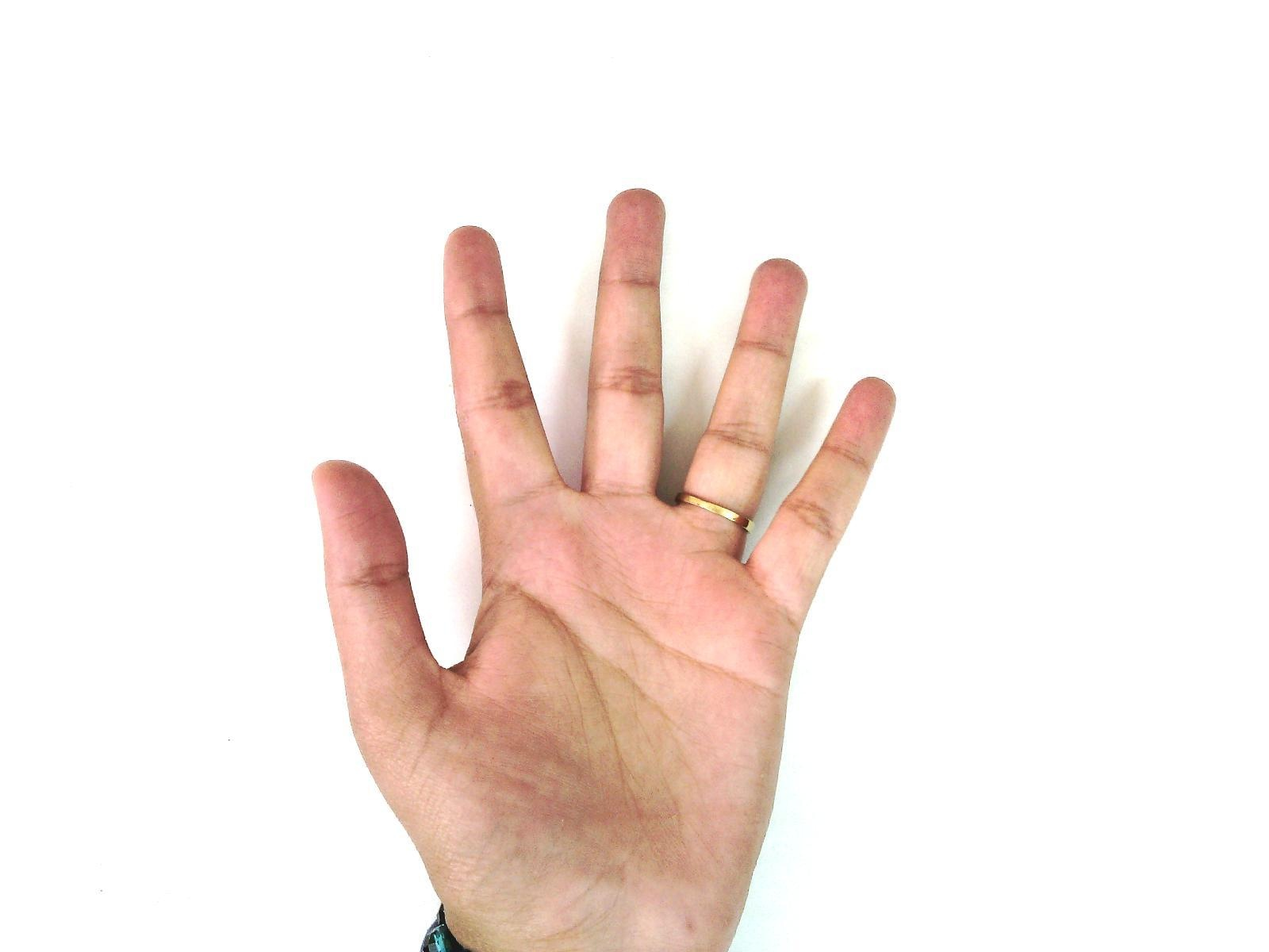open_palm: (309, 187, 899, 951)
